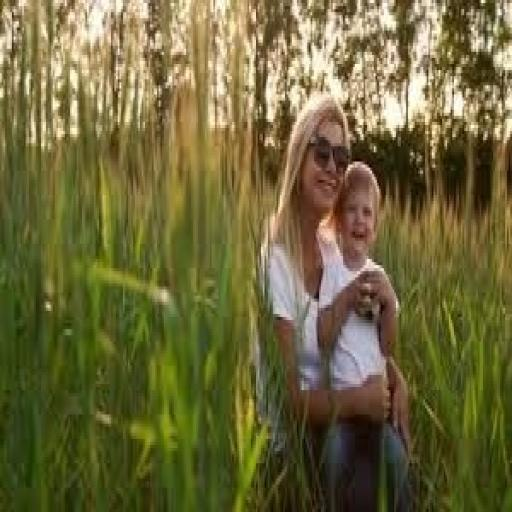hugging: (254, 88, 415, 509)
